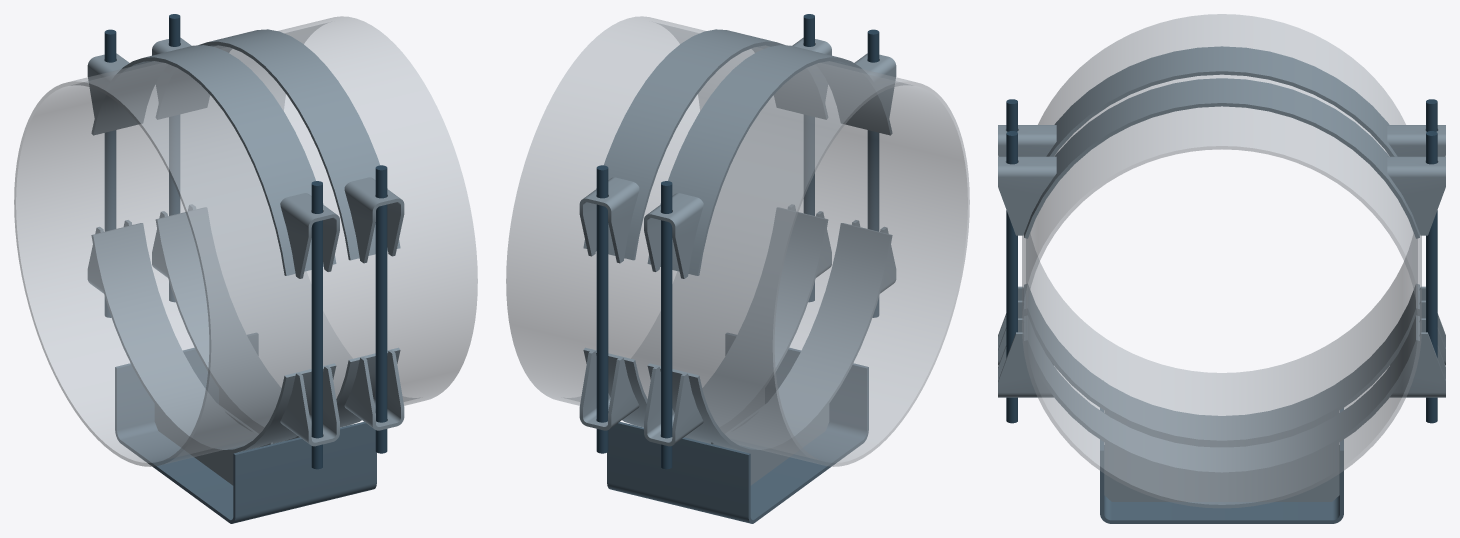
Rendered from TS-627.00.000-033-opora-dn820-H100-L340.glb.
The picture shows the model from 3 angles, left to right: view 1: azimuth 30°, elevation 25°; view 2: azimuth 150°, elevation 25°; view 3: azimuth 270°, elevation 25°; orthographic projection.
Visible parts, largest first — view 1: truba, skoba_0, podushka_4, bugel0_podushka_0, podushka_5, bugel1_podushka_0, shpilka_1_-1, shpilka_0_-1, bugel1_ushko_2, bugel0_ushko_2, ushko_9, ushko_7 (+5 smaller); view 2: truba, skoba_0, podushka_4, bugel0_podushka_0, podushka_5, bugel1_podushka_0, shpilka_1_1, shpilka_0_1, bugel1_ushko_1, bugel0_ushko_1, ushko_8, ushko_6 (+5 smaller); view 3: truba, podushka_5, podushka_4, bugel1_podushka_0, bugel0_podushka_0, rebro4_2, skoba_0, bugel1_ushko_1, bugel1_ushko_2, ushko_8, ushko_9, shpilka_1_1 (+6 smaller).
Part boxes in pixels (<box>): truba: <box>14,16,477,466</box>; skoba_0: <box>115,333,376,523</box>; podushka_4: <box>91,223,336,453</box>; bugel0_podushka_0: <box>91,45,336,275</box>; podushka_5: <box>155,207,400,437</box>; bugel1_podushka_0: <box>156,29,400,260</box>; shpilka_1_-1: <box>375,165,387,453</box>; shpilka_0_-1: <box>311,181,322,469</box>; bugel1_ushko_2: <box>344,177,404,263</box>; bugel0_ushko_2: <box>280,193,339,278</box>; ushko_9: <box>344,350,404,430</box>; ushko_7: <box>280,366,339,446</box>; truba: <box>506,16,969,466</box>; skoba_0: <box>607,333,868,523</box>; podushka_4: <box>647,223,892,453</box>; bugel0_podushka_0: <box>647,45,892,275</box>; podushka_5: <box>583,207,828,437</box>; bugel1_podushka_0: <box>583,29,827,260</box>; shpilka_1_1: <box>596,165,608,453</box>; shpilka_0_1: <box>661,181,672,469</box>; bugel1_ushko_1: <box>579,177,639,263</box>; bugel0_ushko_1: <box>644,193,703,278</box>; ushko_8: <box>579,350,639,430</box>; ushko_6: <box>644,366,703,446</box>; truba: <box>1022,14,1421,508</box>; podushka_5: <box>1024,315,1419,475</box>; podushka_4: <box>1024,284,1419,444</box>; bugel1_podushka_0: <box>1024,78,1419,238</box>; bugel0_podushka_0: <box>1046,46,1397,156</box>; rebro4_2: <box>1104,442,1339,501</box>; skoba_0: <box>1100,408,1343,523</box>; bugel1_ushko_1: <box>1387,156,1445,235</box>; bugel1_ushko_2: <box>998,156,1056,235</box>; ushko_8: <box>1390,318,1445,397</box>; ushko_9: <box>998,318,1053,397</box>; shpilka_1_1: <box>1426,131,1437,423</box>.
Bounding box in the file's own units: 640 × 937 × 918.
